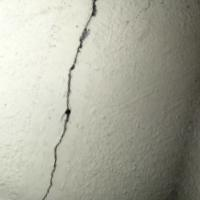crack: (35, 0, 105, 199)
